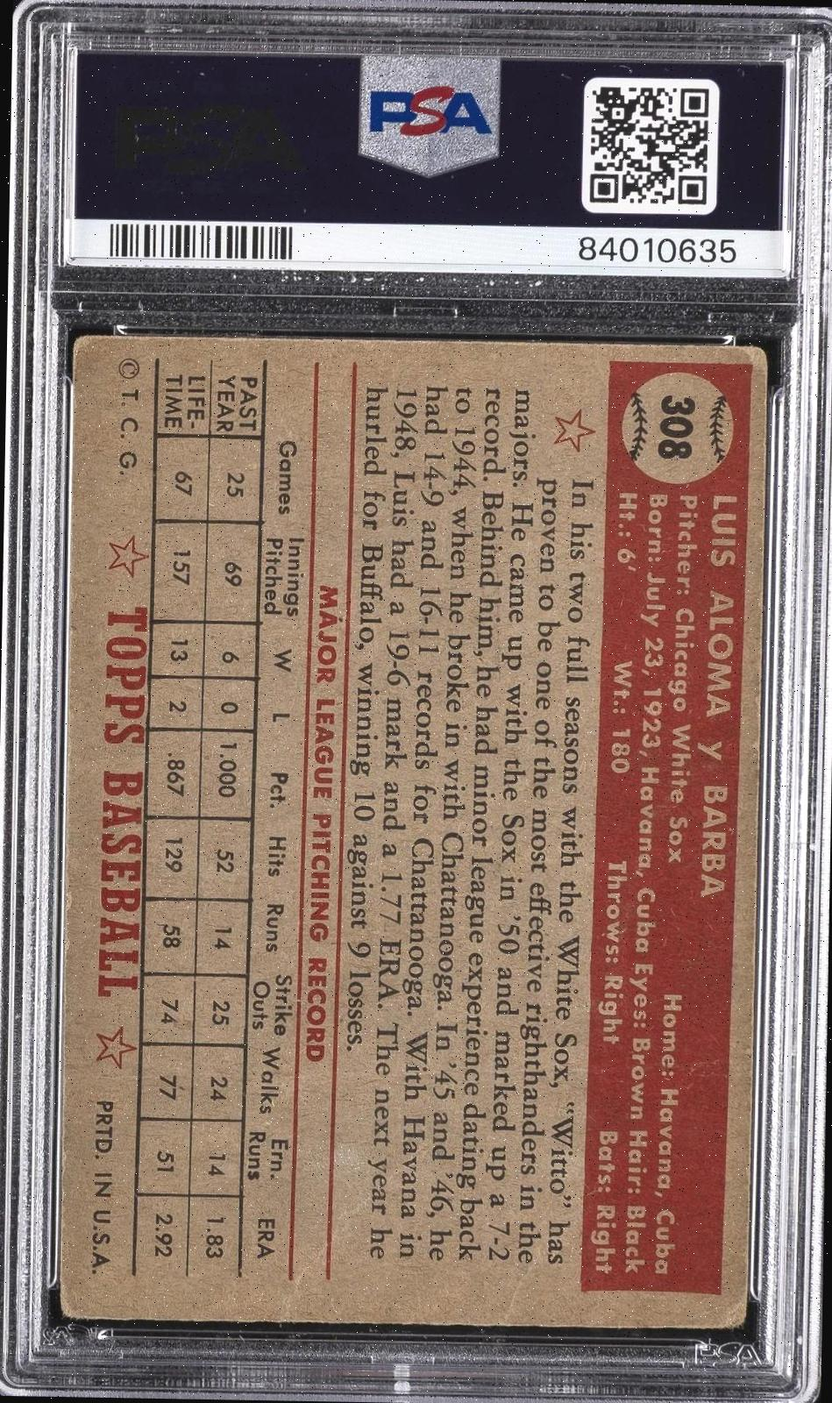card-2UtV: (58, 334, 768, 1331)
